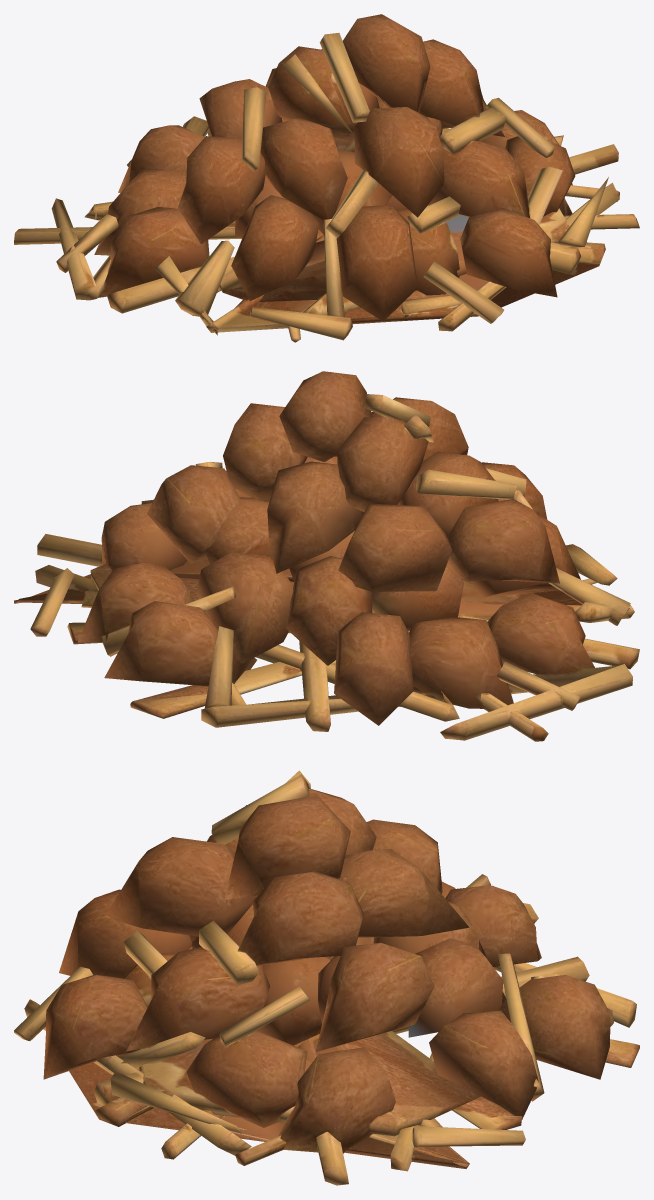
File: bones.glb
The picture shows the model from 3 angles, top to bottom: view 1: azimuth 30°, elevation 25°; view 2: azimuth 150°, elevation 25°; view 3: azimuth 270°, elevation 25°; orthographic projection. The views are drawn at different scales.
Bounding box in the file's own units: 0.9536 × 0.3623 × 0.8257.
1 material, 1 textured.
